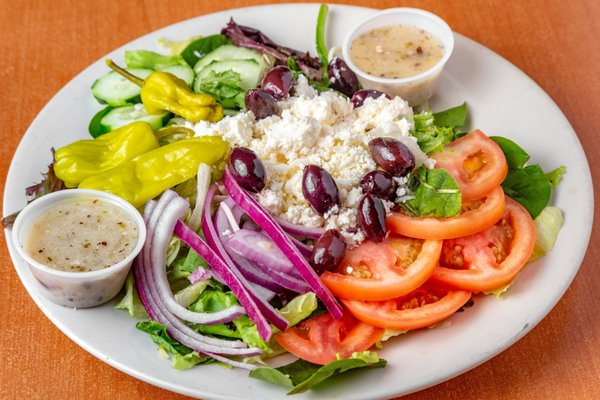sushi: (7, 187, 147, 308), (341, 6, 454, 106)
